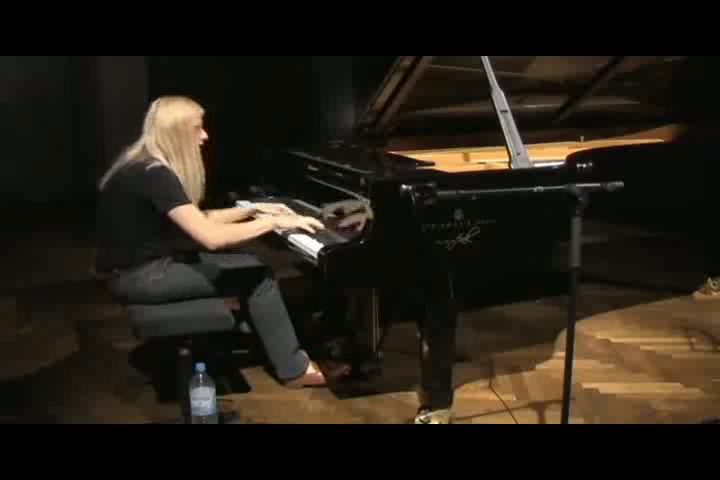keyboard: (230, 189, 361, 264)
